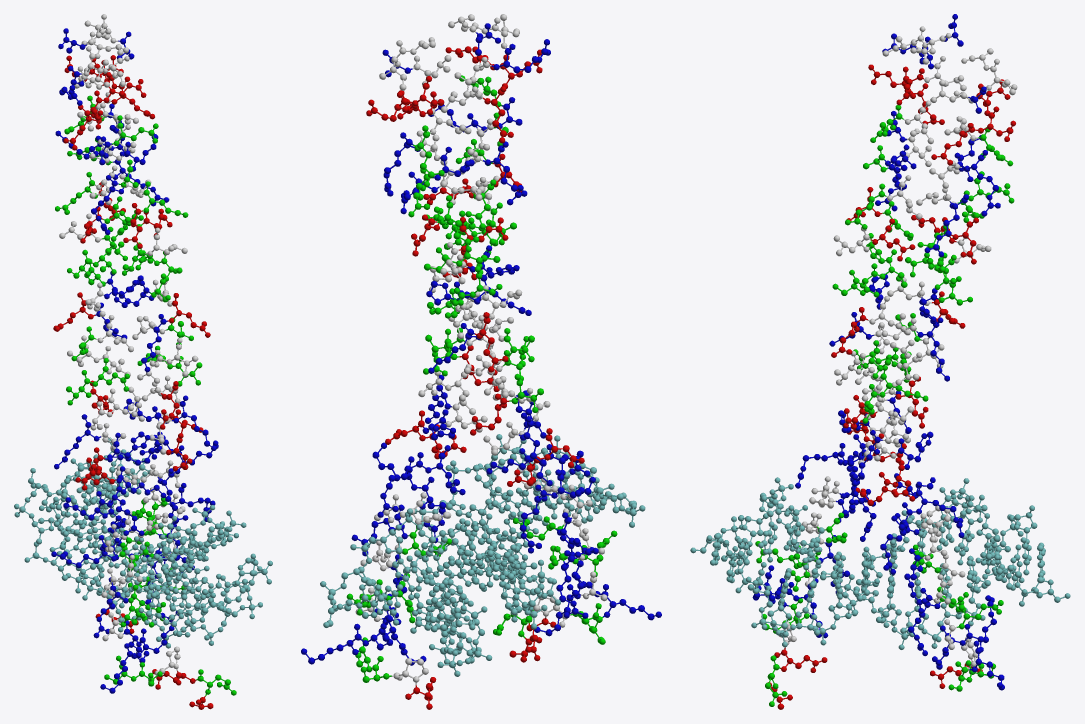
The model's file is all-cpk--color-by-restype.glb.
3 renders of one model, left to right at view 1: azimuth 30°, elevation 25°; view 2: azimuth 150°, elevation 25°; view 3: azimuth 270°, elevation 25°, orthographic. The views are drawn at different scales.
Visible parts, largest first — view 1: vmd_mol0_rep7; view 2: vmd_mol0_rep7; view 3: vmd_mol0_rep7.
Part boxes in pixels (x1,y1,x2,y2): vmd_mol0_rep7: (14, 14, 272, 709); vmd_mol0_rep7: (301, 14, 661, 709); vmd_mol0_rep7: (690, 14, 1070, 709).
Bounding box in the file's own units: 0.6282 × 1.88 × 0.9771.
